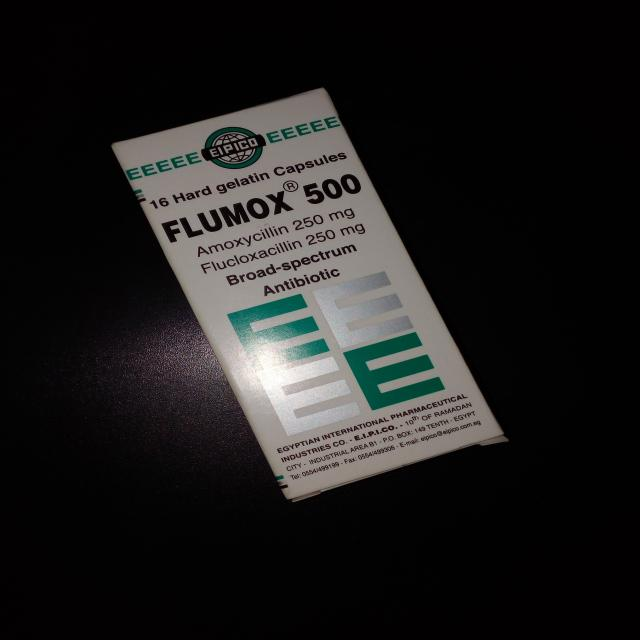Medicine: (111, 84, 515, 505)
